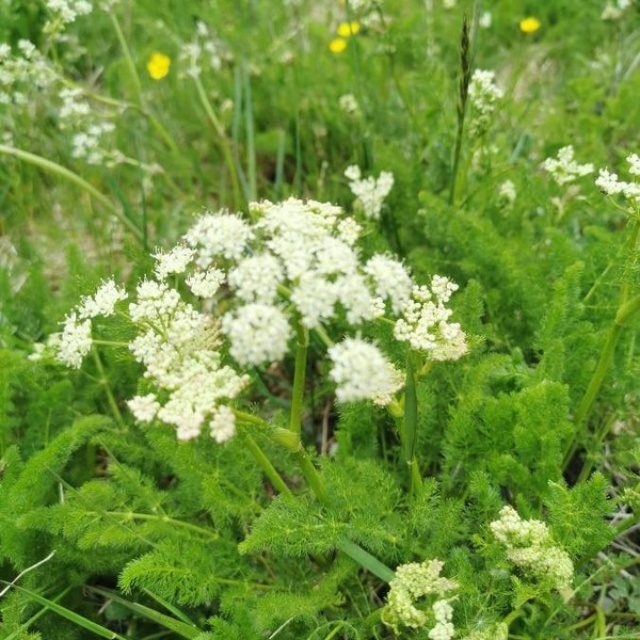obstacle: (55, 191, 497, 591)
